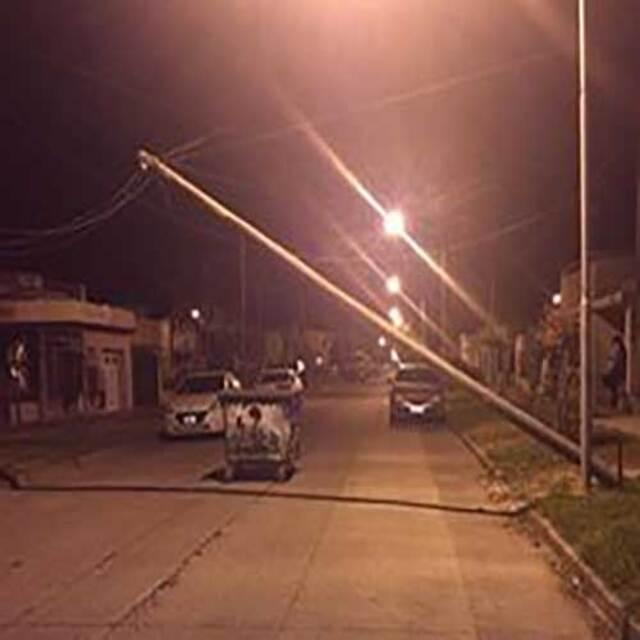Inclined Pole: (126, 140, 628, 485)
